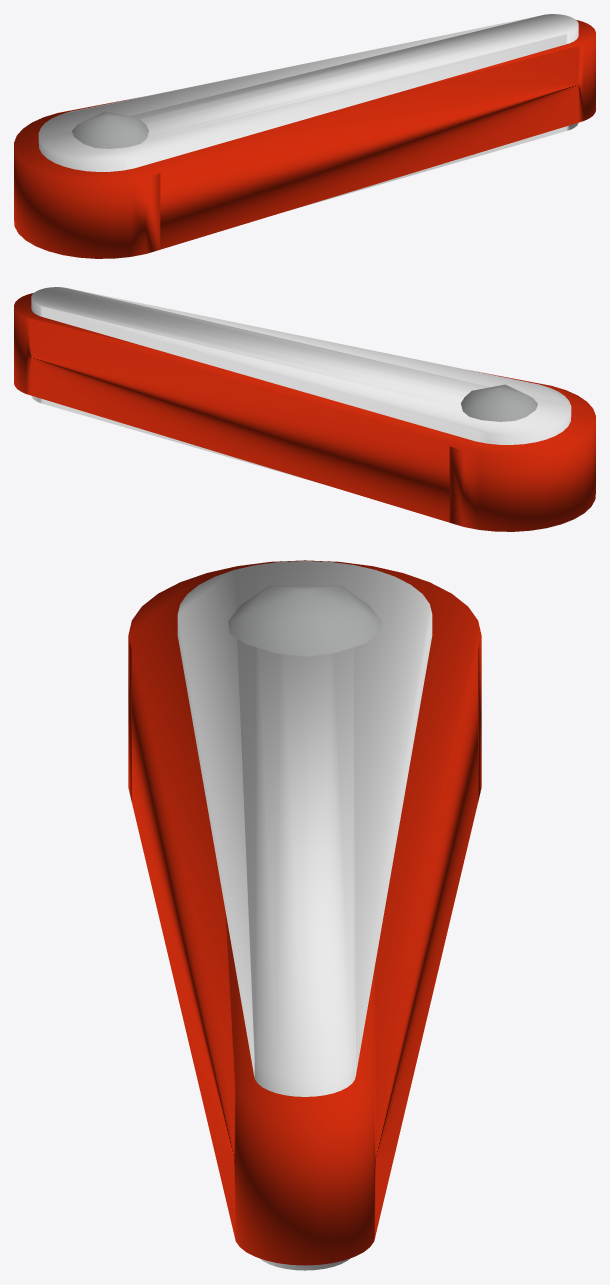
The model's file is flipper.fbx.
3 views of the same model, one above another, from view 1: azimuth 30°, elevation 25°; view 2: azimuth 150°, elevation 25°; view 3: azimuth 270°, elevation 25° (orthographic). The views are drawn at different scales.
Parts seen in each view (by area): view 1: Icosphere; view 2: Icosphere; view 3: Icosphere.
Part boxes in pixels (<box>): Icosphere: <box>14,14,595,258</box>; Icosphere: <box>14,287,595,531</box>; Icosphere: <box>128,560,481,1270</box>.
Bounding box in the file's own units: 11 × 2.11 × 2.97.
